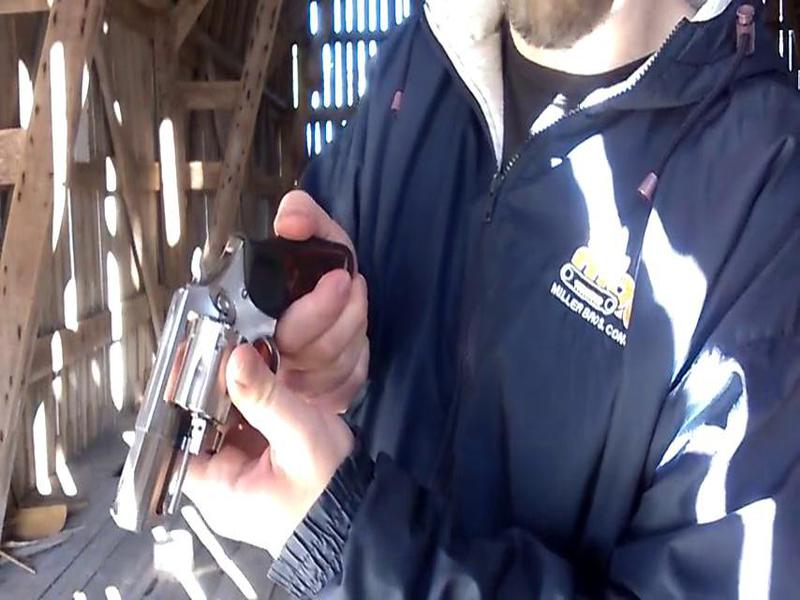Revolver: (107, 221, 359, 544)
